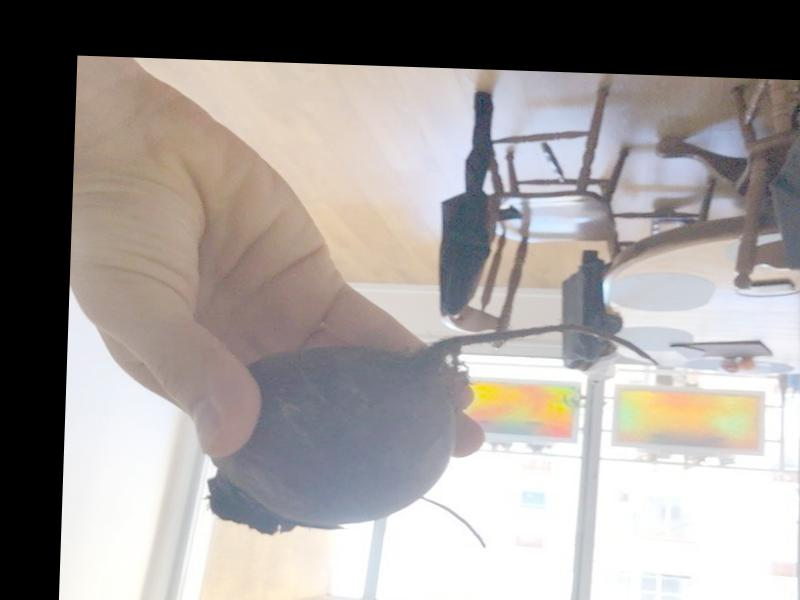Beet: (206, 313, 660, 550)
